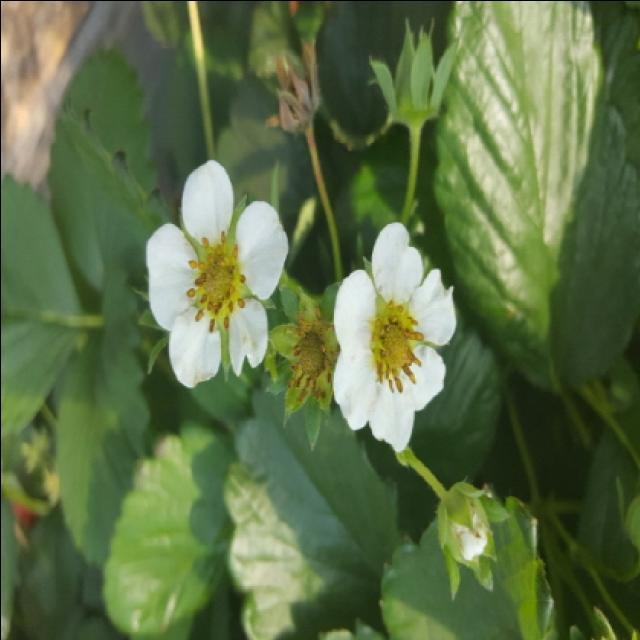Blossom Blight: (182, 225, 257, 336), (364, 295, 429, 395), (285, 322, 332, 398)
